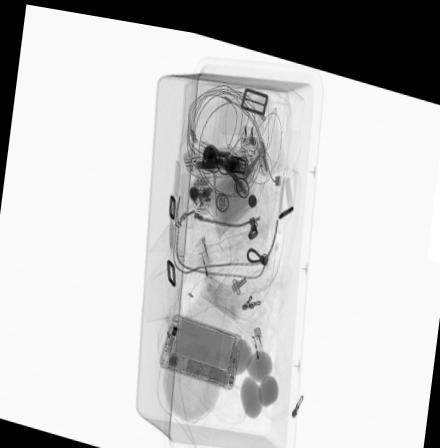Lighter: (249, 317, 268, 372)
